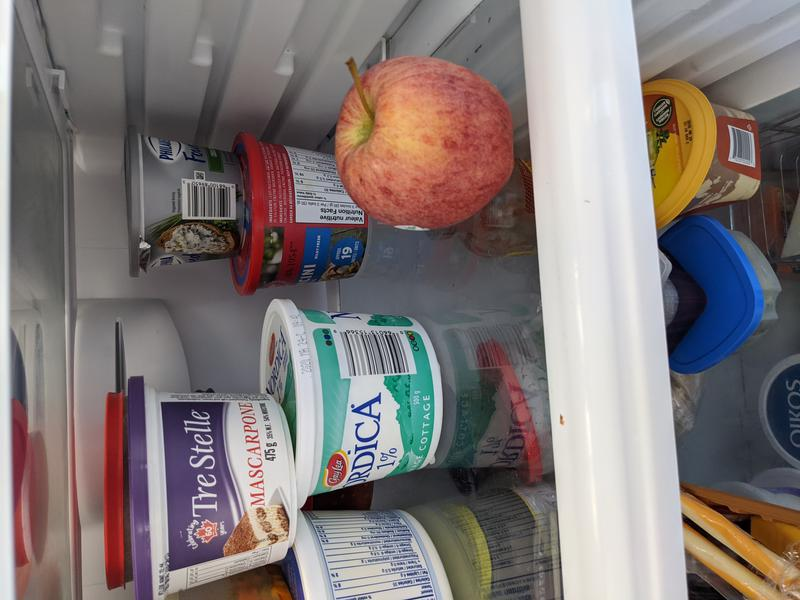red apple: (334, 54, 516, 230)
